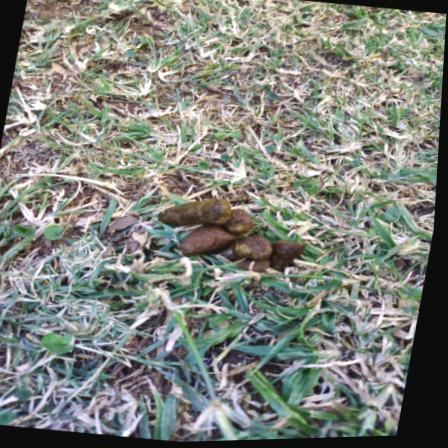dog-poop: (151, 184, 320, 280)
